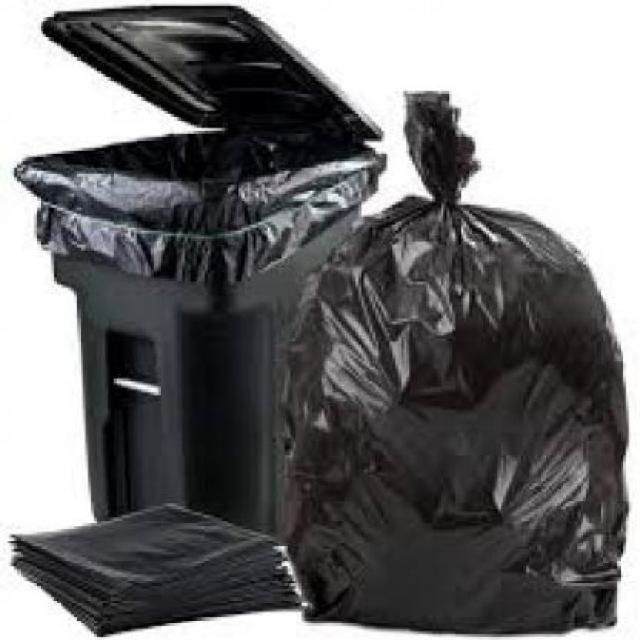garbage: (279, 83, 623, 632)
